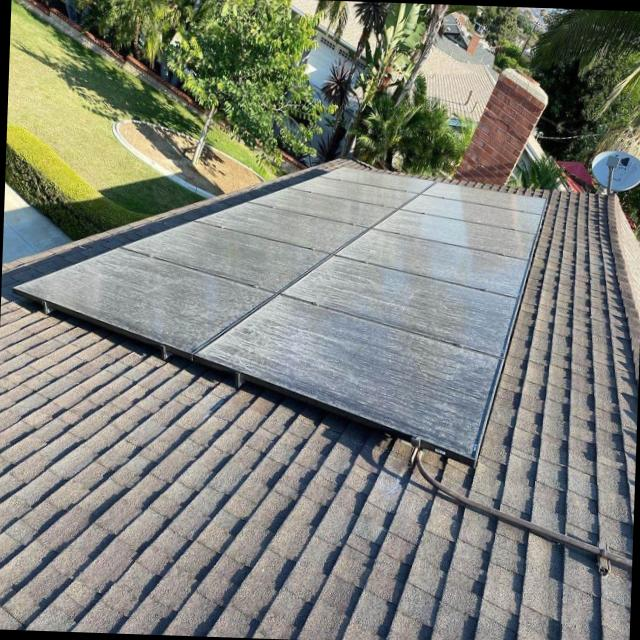faulty: (25, 167, 548, 448)
